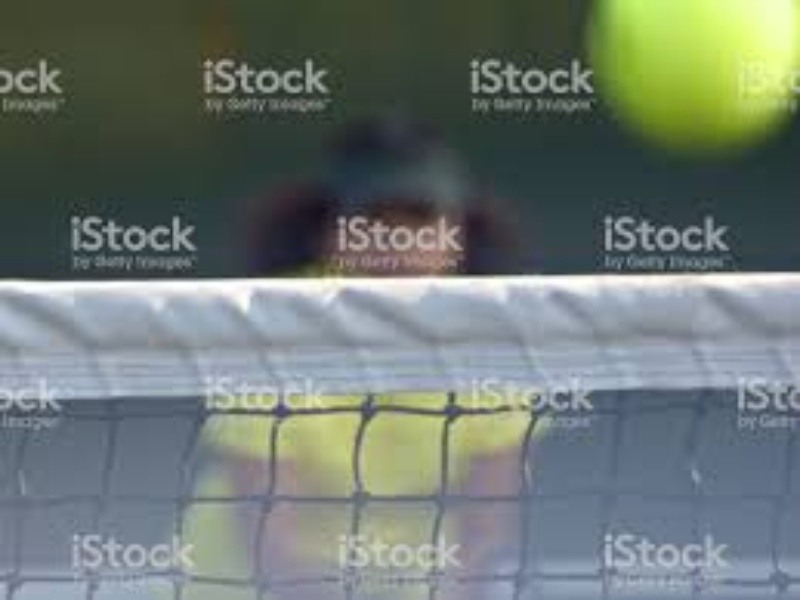tennis ball: (567, 3, 799, 174)
